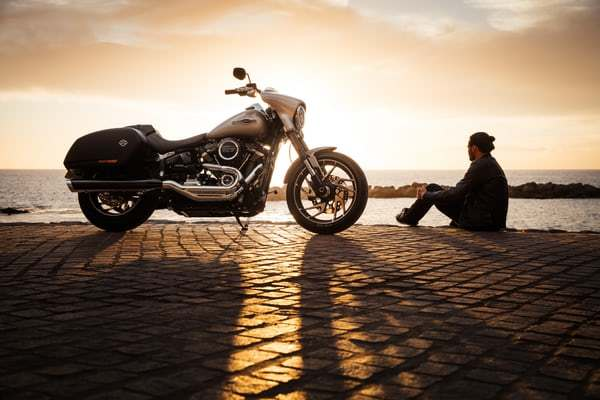2_label: (51, 41, 386, 244)
